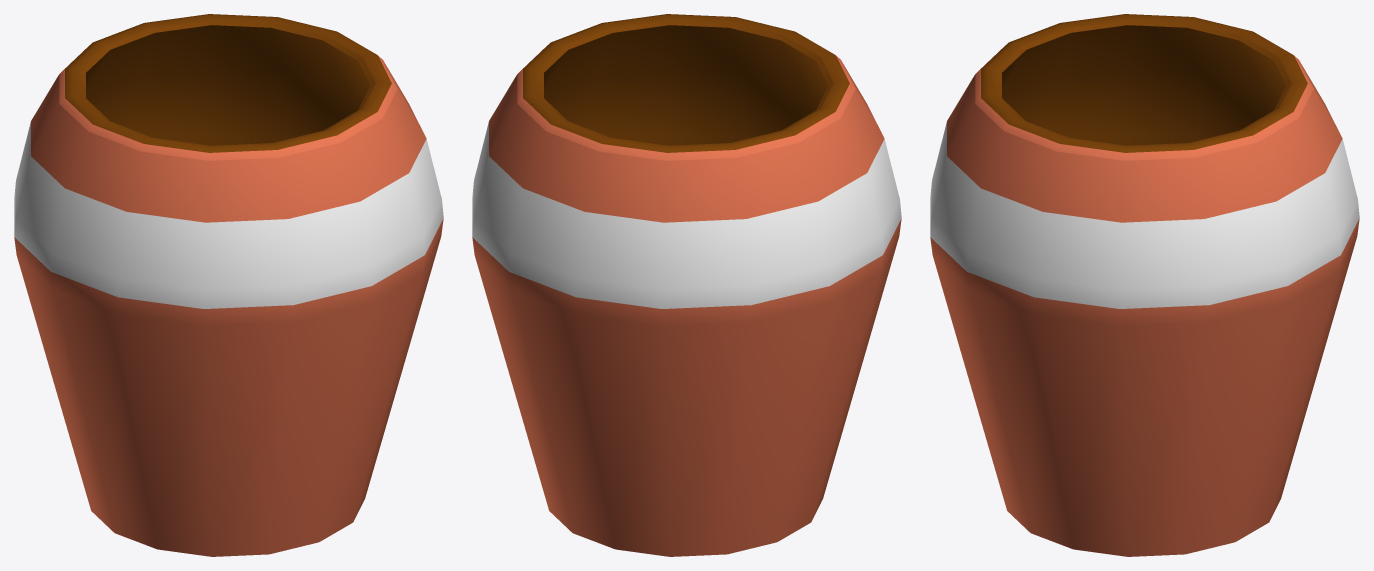
3 views of the same model, side by side, from view 1: azimuth 30°, elevation 25°; view 2: azimuth 150°, elevation 25°; view 3: azimuth 270°, elevation 25° (orthographic).
Parts seen in each view (by area): view 1: Circle.002; view 2: Circle.002; view 3: Circle.002.
Boxes of the visible parts, left/top/right/bottom form: Circle.002: left=14, top=14, right=443, bottom=556; Circle.002: left=472, top=14, right=901, bottom=556; Circle.002: left=930, top=14, right=1359, bottom=556.
Size of the model in its own units: 255 by 272 by 254.
